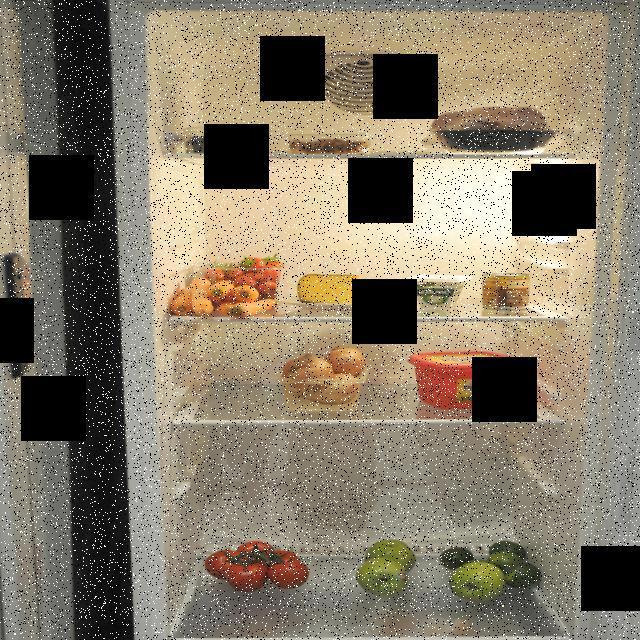apple: (354, 532, 422, 598), (448, 562, 508, 602)
blueberries: (182, 130, 268, 156)
butter: (410, 348, 522, 412)
carrot: (162, 280, 280, 320)
cheese: (295, 271, 364, 307)
chicken: (422, 103, 560, 157)
corn: (481, 271, 531, 313)
goat_cheese: (405, 272, 474, 308)
lime: (487, 541, 542, 591), (441, 546, 476, 572)
onion: (284, 344, 368, 406)
shrimp: (281, 136, 372, 158)
strawberries: (202, 256, 280, 302)
tomato: (200, 539, 318, 591)
